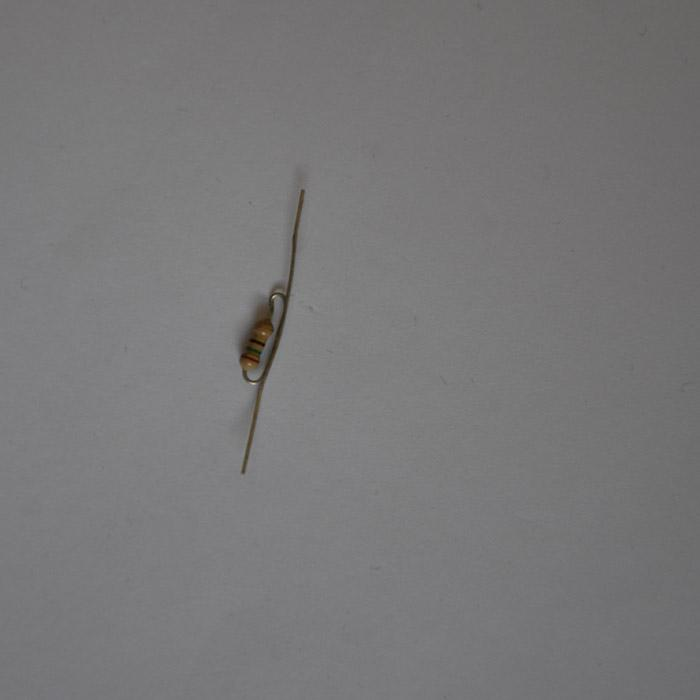resistor: (236, 304, 278, 377)
